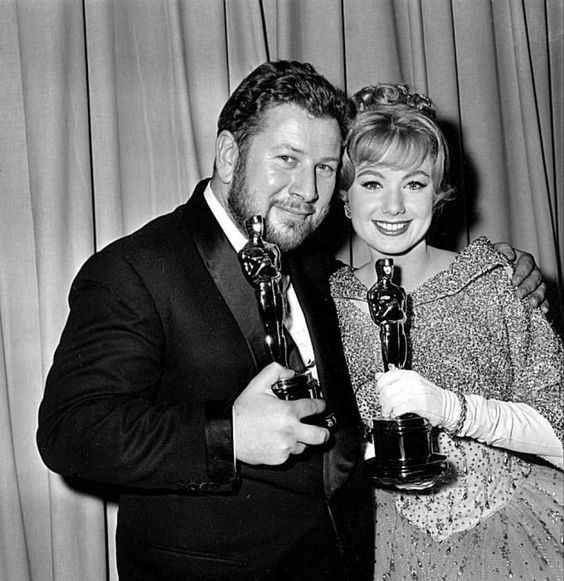hand: (473, 244, 546, 313)
